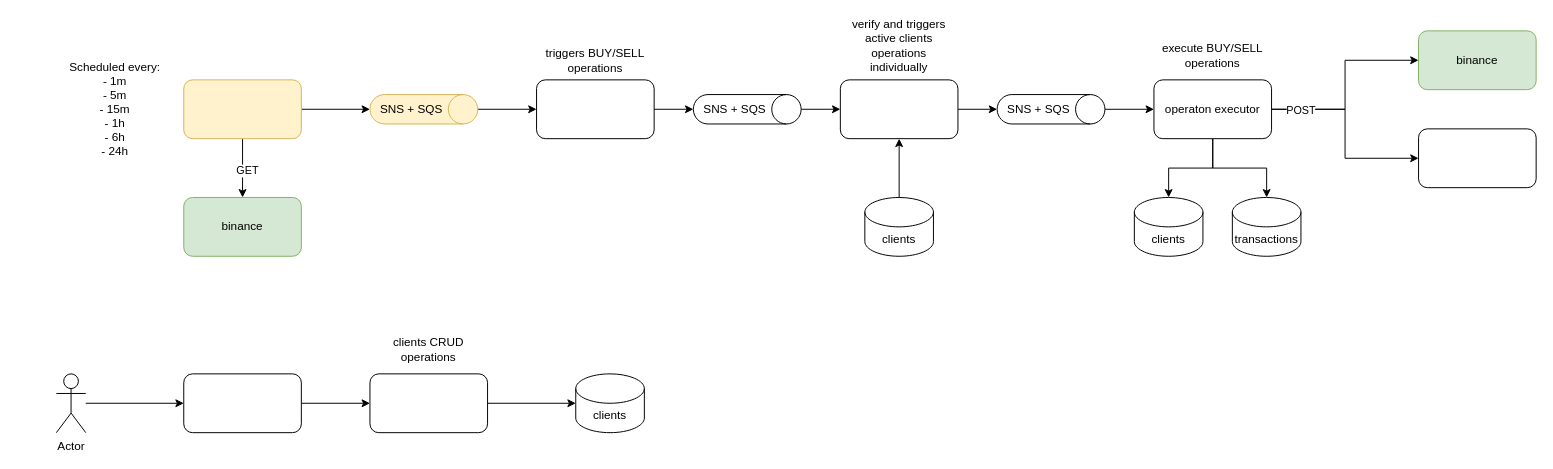
The diagram is 1553 pixels wide and 469 high, and some of its shapes have lost their labels. The shapes that lost their labels are listed below. From the top down, each one's centre as x and y in pixels, then its label:
At point 242,109: "analysis data gen".
At point 595,109: "data digest".
At point 898,109: "operation manager".
At point 1477,158: "binance-mock".
At point 242,403: "telegram-bot".
At point 428,403: "clients API".
